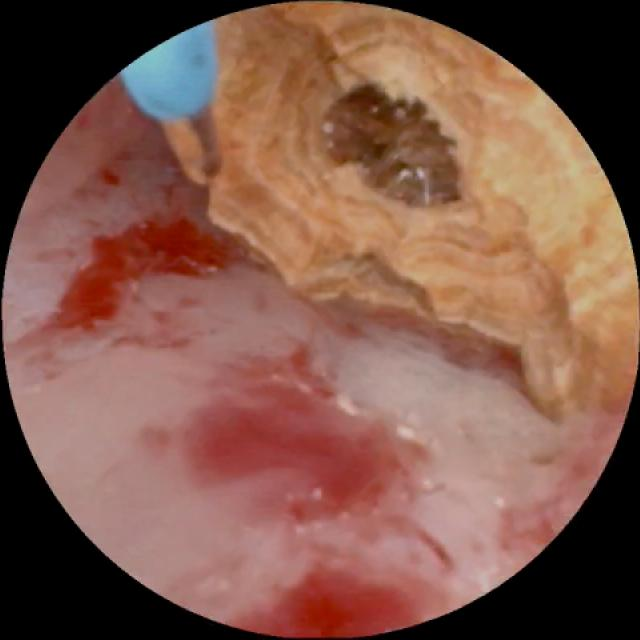fiber: (124, 32, 213, 112)
stone: (174, 7, 631, 416)
